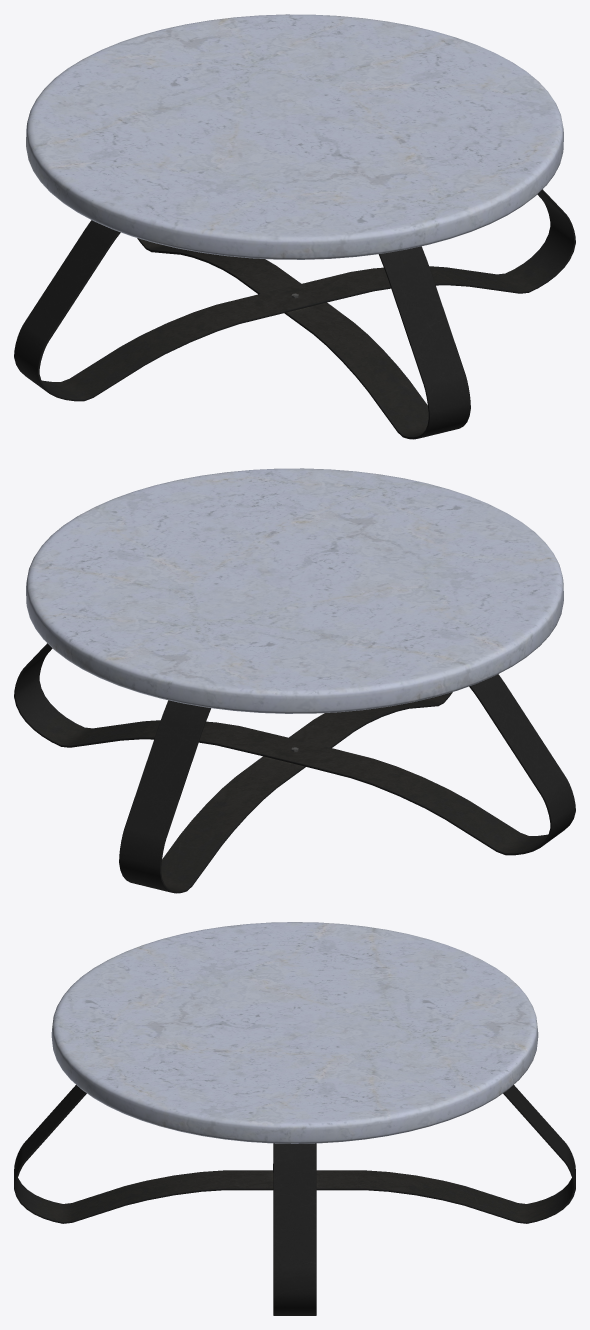
File: coffee_table_round_01.glb
3 renders of one model, top to bottom at view 1: azimuth 30°, elevation 25°; view 2: azimuth 150°, elevation 25°; view 3: azimuth 270°, elevation 25°, orthographic. The views are drawn at different scales.
Parts seen in each view (by area): view 1: coffee_table_round_01; view 2: coffee_table_round_01; view 3: coffee_table_round_01.
Part boxes in pixels (x1,y1,x2,y2): coffee_table_round_01: [14, 14, 575, 439]; coffee_table_round_01: [14, 468, 575, 893]; coffee_table_round_01: [14, 922, 575, 1315].
Bounding box in the file's own units: 1.3 × 0.491 × 1.3.
Materials: 1 (1 with a texture image).
